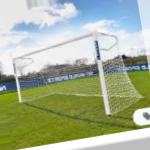goals: (10, 28, 142, 114)
